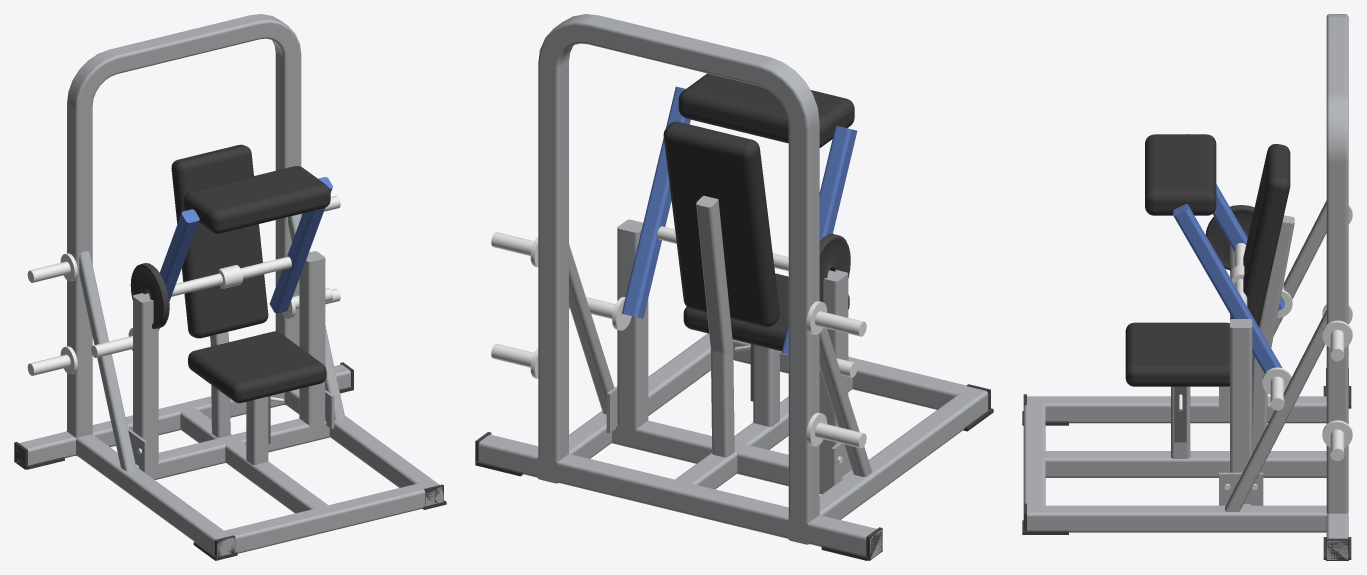
The picture shows the model from 3 angles, left to right: view 1: azimuth 30°, elevation 25°; view 2: azimuth 150°, elevation 25°; view 3: azimuth 270°, elevation 25°; orthographic projection. The views are drawn at different scales.
Parts seen in each view (by area): view 1: base, mast_tube, lever_support, backrest_pad, seat_pad, lever_pad, frame, lever_bar (×2), storage_horn (×2), lever_cam, seat_post, lever_axle (+3 smaller); view 2: mast_tube, base, backrest_pad, lever_support, lever_pad, backrest_support_tube, frame, lever_bar (×2), storage_horn (×4), seat_pad, seat_post, lever_tail (+2 smaller); view 3: base, mast_tube, seat_pad, lever_pad, backrest_pad, frame, lever_support, lever_bar (×2), backrest_support_tube, storage_horn (×2), lever_cam, gusset (+5 smaller).
Boxes of the visible parts, x1=… form: base: x1=15, y1=364, x2=443, y2=556; mast_tube: x1=67, y1=14, x2=301, y2=455; lever_support: x1=133, y1=251, x2=329, y2=479; backrest_pad: x1=171, y1=144, x2=268, y2=338; seat_pad: x1=188, y1=331, x2=326, y2=403; lever_pad: x1=184, y1=166, x2=330, y2=233; frame: x1=79, y1=214, x2=345, y2=471; lever_bar (×2): x1=159, y1=177, x2=332, y2=297; storage_horn (×2): x1=27, y1=253, x2=77, y2=375; lever_cam: x1=130, y1=263, x2=169, y2=329; seat_post: x1=246, y1=396, x2=268, y2=464; lever_axle: x1=171, y1=256, x2=291, y2=296; mast_tube: x1=538, y1=14, x2=819, y2=544; base: x1=478, y1=333, x2=988, y2=558; backrest_pad: x1=663, y1=121, x2=779, y2=327; lever_support: x1=612, y1=219, x2=857, y2=494; lever_pad: x1=678, y1=73, x2=854, y2=147; backrest_support_tube: x1=696, y1=195, x2=734, y2=457; frame: x1=569, y1=244, x2=872, y2=476; lever_bar (×2): x1=642, y1=86, x2=857, y2=240; storage_horn (×4): x1=491, y1=232, x2=866, y2=448; seat_pad: x1=683, y1=273, x2=849, y2=351; seat_post: x1=753, y1=344, x2=779, y2=426; lever_tail: x1=621, y1=228, x2=661, y2=318; base: x1=1023, y1=396, x2=1348, y2=560; mast_tube: x1=1326, y1=14, x2=1348, y2=513; seat_pad: x1=1125, y1=322, x2=1229, y2=386; lever_pad: x1=1145, y1=134, x2=1216, y2=215; backrest_pad: x1=1231, y1=144, x2=1290, y2=326; frame: x1=1225, y1=200, x2=1326, y2=511; lever_support: x1=1230, y1=244, x2=1252, y2=505; lever_bar (×2): x1=1173, y1=134, x2=1248, y2=318; backrest_support_tube: x1=1252, y1=215, x2=1294, y2=453; storage_horn (×2): x1=1322, y1=320, x2=1352, y2=460; lever_cam: x1=1205, y1=205, x2=1254, y2=270; gusset: x1=1219, y1=472, x2=1263, y2=505.
Size of the model in its own units: 1.48 by 1.68 by 1.2.
